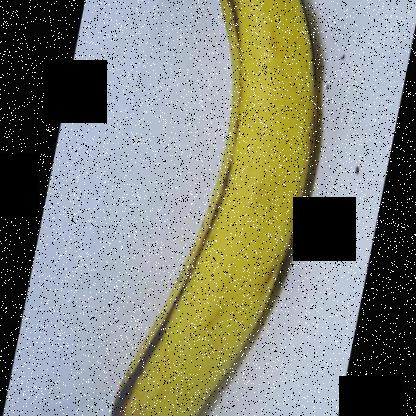ripe: (86, 0, 336, 415)
